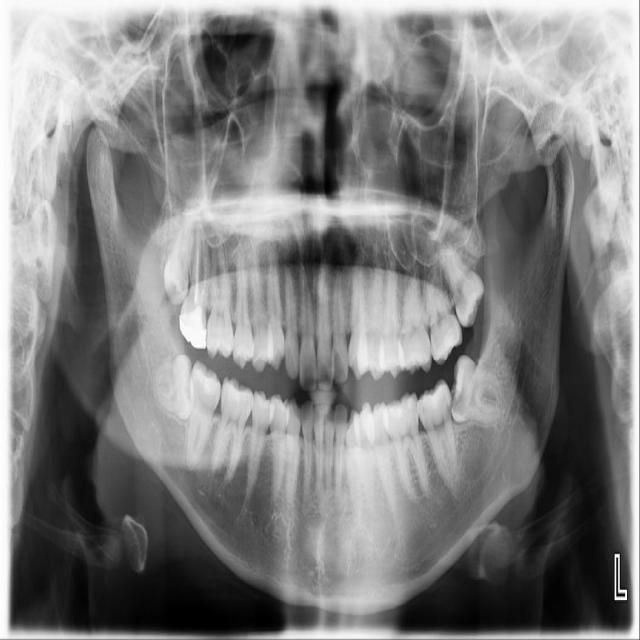Caries: (450, 385, 468, 416)
Root Canal Treatment: (192, 224, 198, 301), (201, 243, 206, 298)
impacted tooth: (450, 356, 515, 423), (162, 212, 193, 303), (149, 355, 192, 417)
